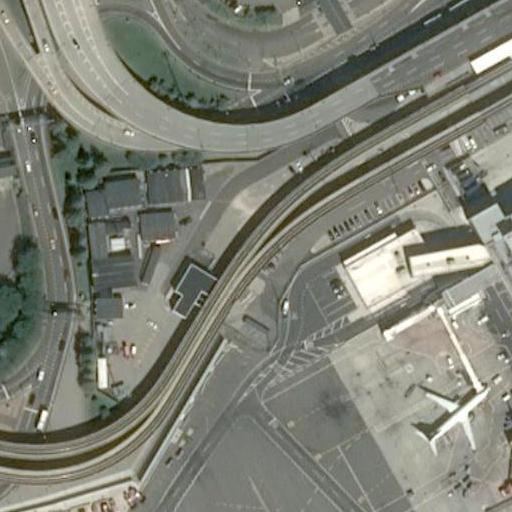Aircraft: (406, 382, 491, 455)
